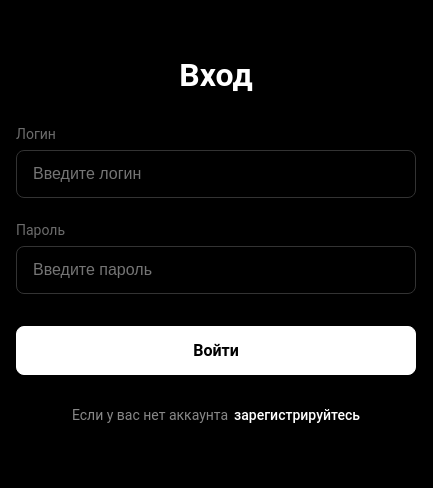
Test: LoginPage › toggles to registration form
Step 1. Click the button "зарегистрируйтесь" → (297, 414), box [234,406,360,422]
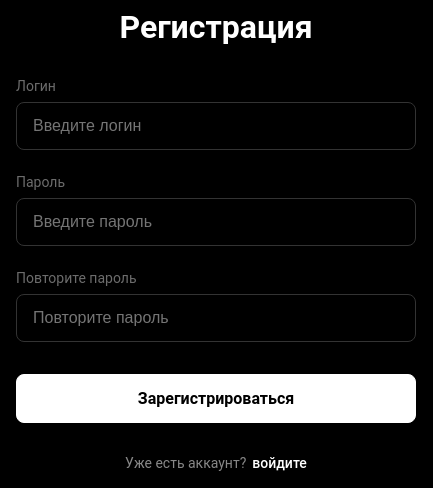
Check: the password field with placeholder "Повторите пароль" is shown, box [16,294,416,342]
Check: the button "Зарегистрироваться" is shown, box [16,374,416,422]
